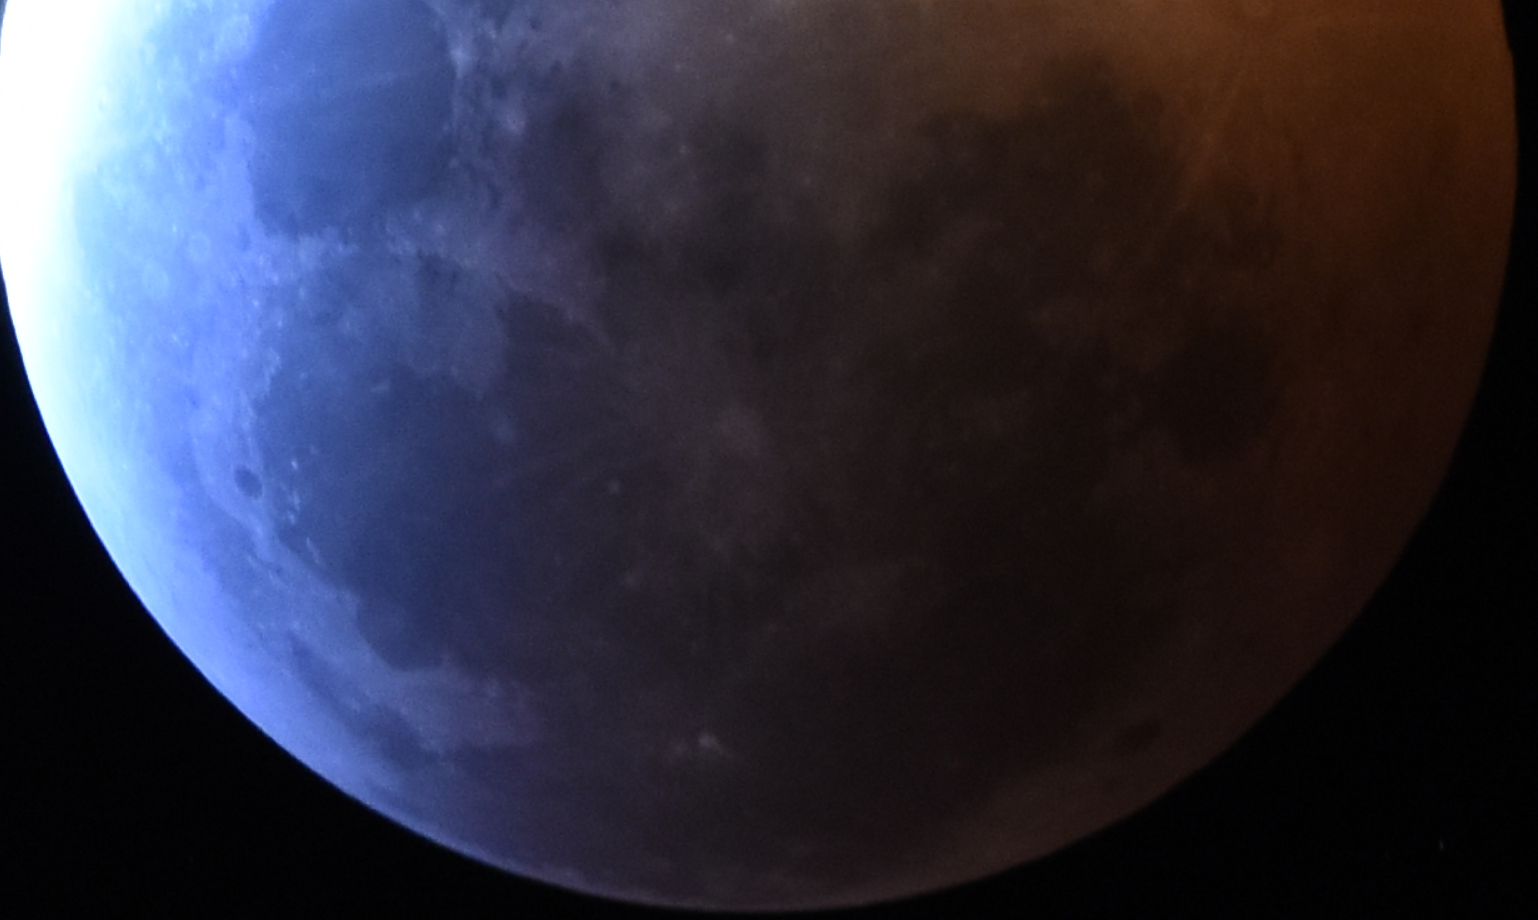crater: (1078, 701, 1184, 770), (706, 386, 784, 469), (217, 450, 274, 524), (124, 248, 178, 315), (435, 24, 493, 76), (473, 401, 521, 457), (180, 226, 233, 268), (495, 99, 537, 145), (358, 359, 397, 400), (692, 720, 727, 750), (292, 356, 322, 391), (662, 50, 691, 85), (292, 274, 321, 307), (717, 20, 745, 51), (673, 134, 704, 161), (284, 445, 307, 481), (599, 470, 623, 499), (204, 99, 224, 126)
